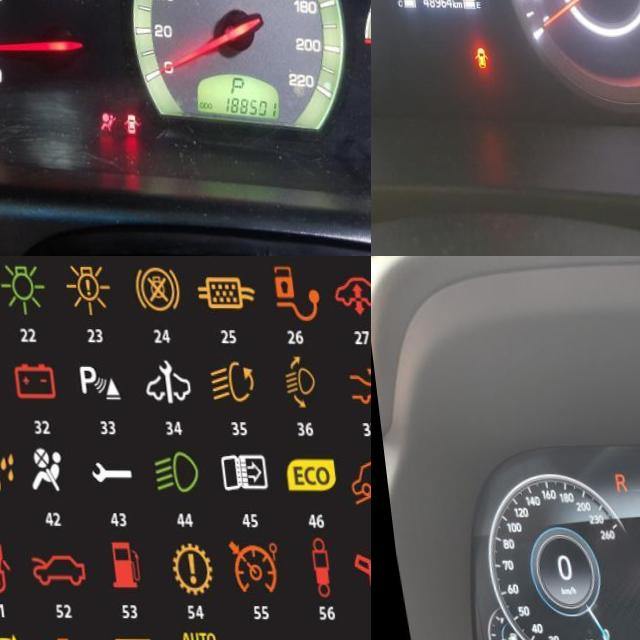Doors: (112, 112, 129, 133), (463, 45, 478, 67)
